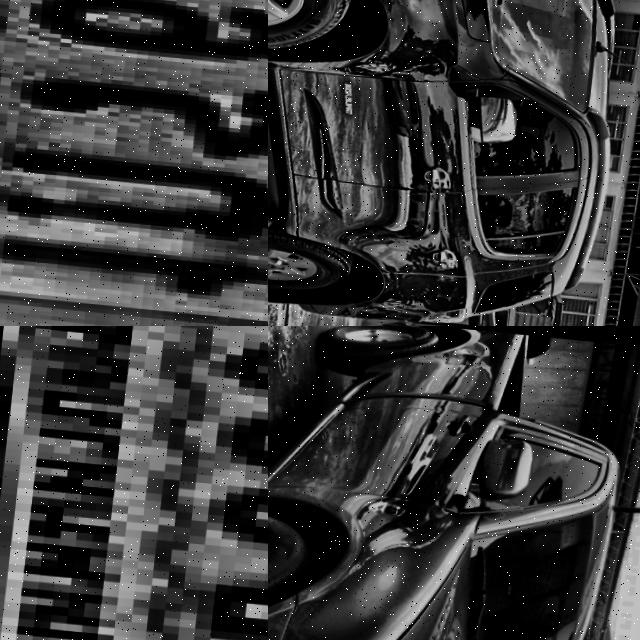license-plate: (0, 0, 268, 326), (0, 326, 268, 640)
